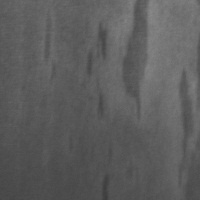inclusion: (119, 1, 151, 123), (170, 67, 199, 199), (82, 19, 110, 86), (39, 7, 61, 85), (92, 79, 110, 121), (97, 168, 115, 199)
